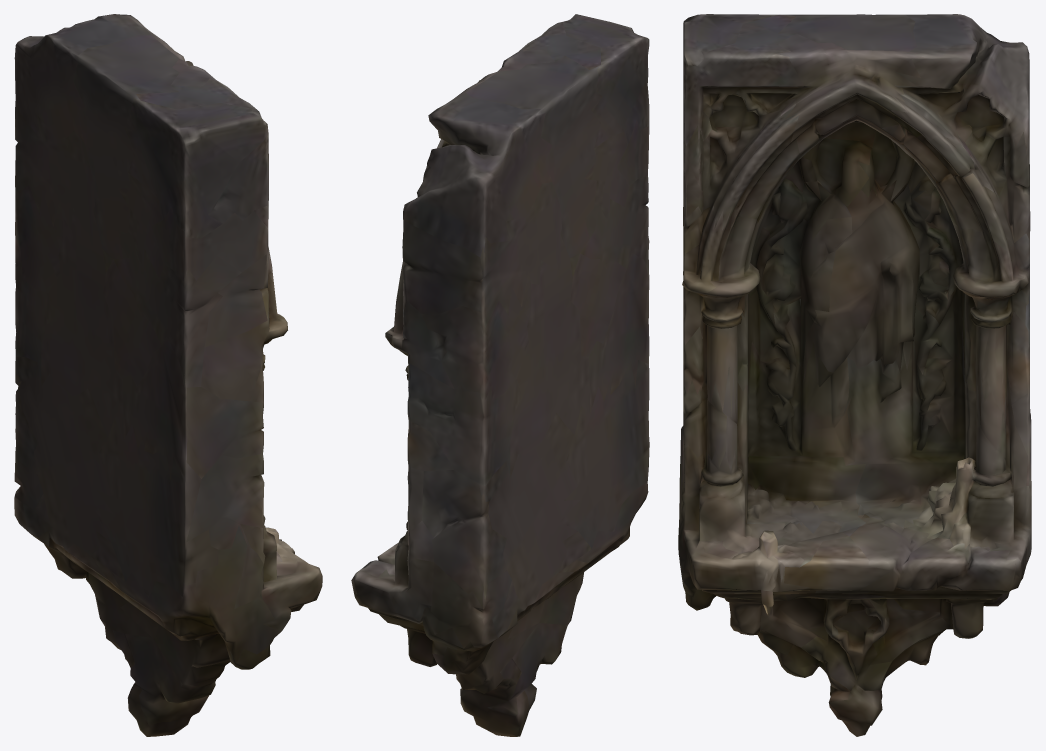
The model's file is reliquary-wall-alcove.glb.
The picture shows the model from 3 angles, left to right: view 1: azimuth 30°, elevation 25°; view 2: azimuth 150°, elevation 25°; view 3: azimuth 270°, elevation 25°; orthographic projection. The views are drawn at different scales.
Parts seen in each view (by area): view 1: tripo_node_9c0fd7e9-1f06-4abb-8790-05739ab78904; view 2: tripo_node_9c0fd7e9-1f06-4abb-8790-05739ab78904; view 3: tripo_node_9c0fd7e9-1f06-4abb-8790-05739ab78904.
Boxes of the visible parts, box(x1,y1,x2,y2) form: tripo_node_9c0fd7e9-1f06-4abb-8790-05739ab78904: box(14, 14, 322, 736); tripo_node_9c0fd7e9-1f06-4abb-8790-05739ab78904: box(351, 14, 649, 736); tripo_node_9c0fd7e9-1f06-4abb-8790-05739ab78904: box(678, 14, 1031, 736).
Bounding box in the file's own units: 0.2293 × 1 × 0.4656.
Materials: 1 (1 with a texture image).
